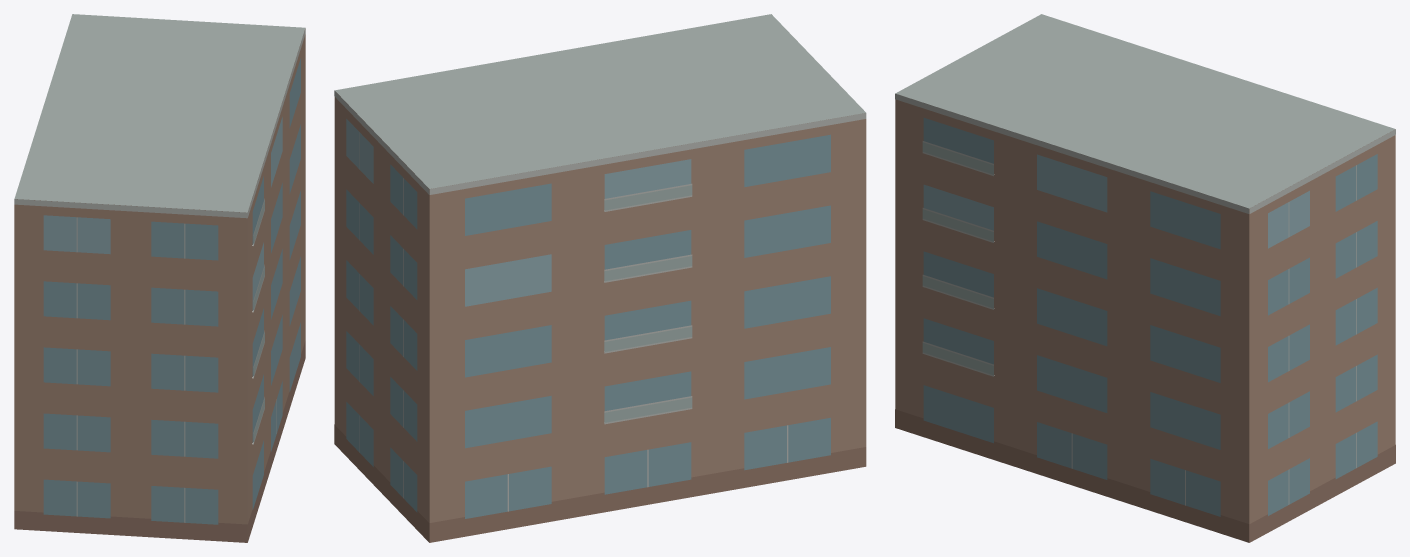
File: survey-upis-32667454.glb
The picture shows the model from 3 angles, left to right: view 1: azimuth 30°, elevation 25°; view 2: azimuth 150°, elevation 25°; view 3: azimuth 270°, elevation 25°; orthographic projection. The views are drawn at different scales.
Parts seen in each view (by area): view 1: survey-upis-32667454.tmp; view 2: survey-upis-32667454.tmp; view 3: survey-upis-32667454.tmp.
Boxes of the visible parts, x1=… form: survey-upis-32667454.tmp: x1=14, y1=14, x2=305, y2=542; survey-upis-32667454.tmp: x1=334, y1=14, x2=866, y2=542; survey-upis-32667454.tmp: x1=895, y1=14, x2=1395, y2=542.
Size of the model in its own units: 17.73 by 14.2 by 19.28.
